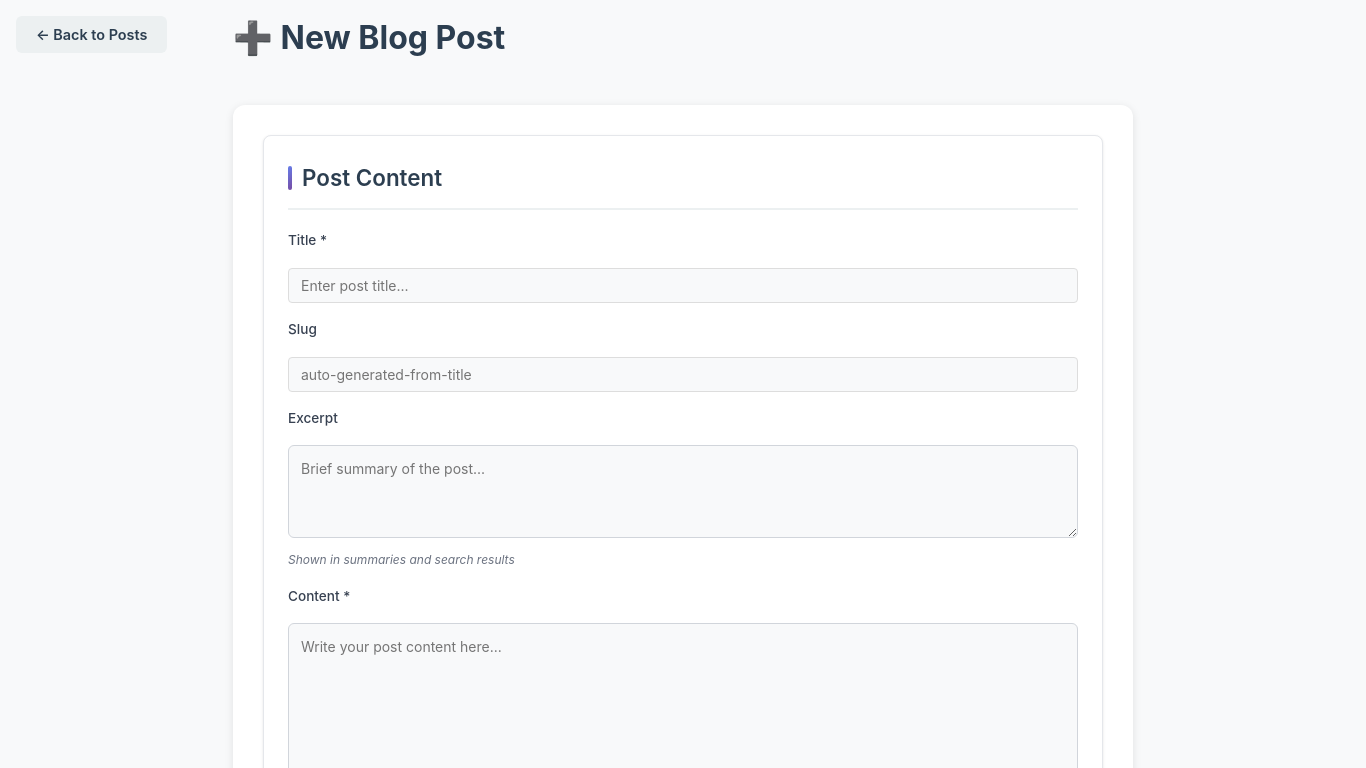
Scenario: BlogPostForm Component › Form Validation › should show error for empty content
This screenshot has width=1366, height=768.
In the field labelled "Title *": (683, 285) x1=288 y1=268 x2=1078 y2=303, type "Test Title"
(page scrolled)
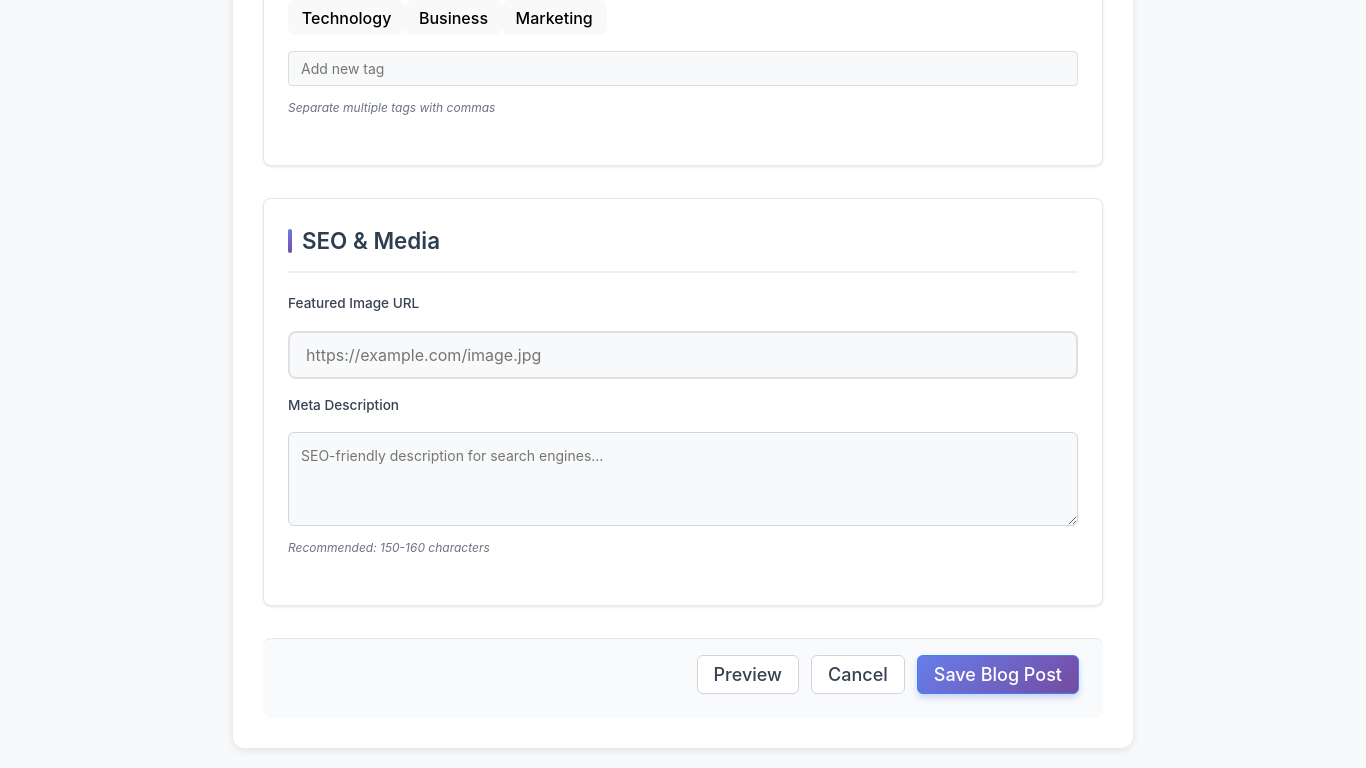
Click the button "Save Blog Post": (998, 674) x1=917 y1=655 x2=1079 y2=694
(page scrolled)
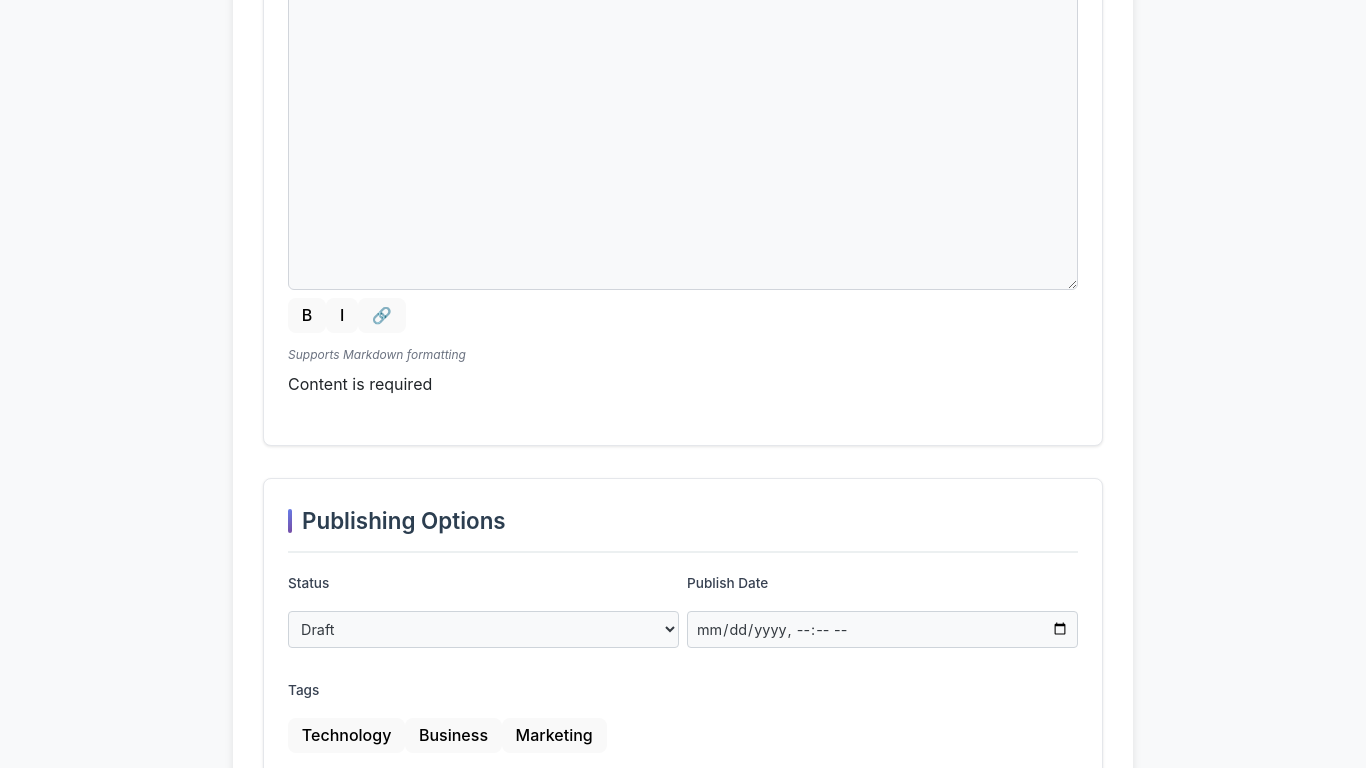
Result: the text "Content is required" is shown at x1=288 y1=374 x2=432 y2=394
